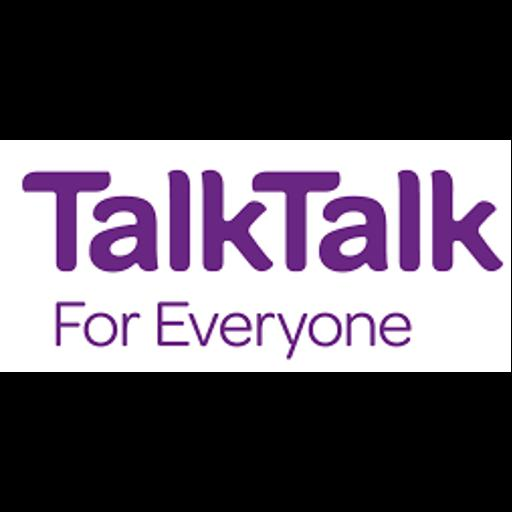TalkTalk Communications: (0, 140, 511, 372)
